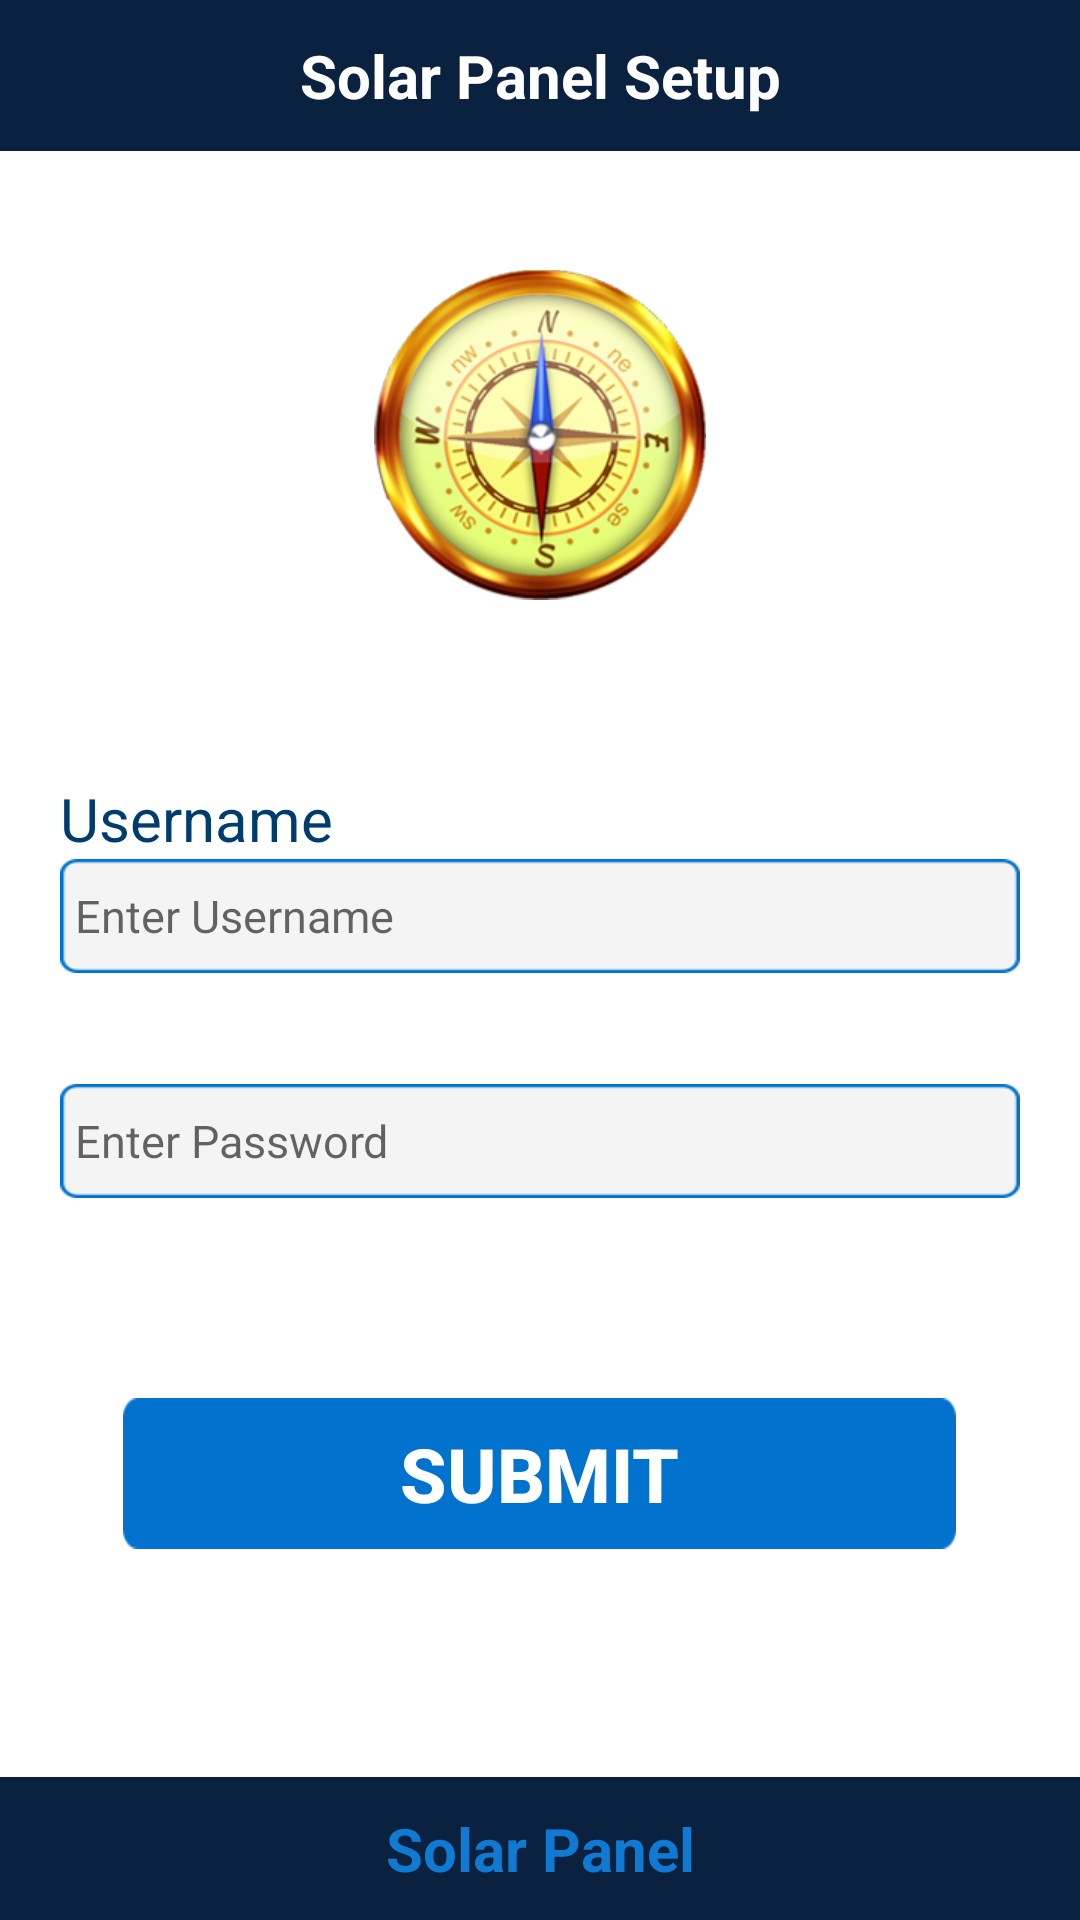

Icon click points for this 1080×1920 phone screenshot, format [x,y]:
compass: [540,435]
